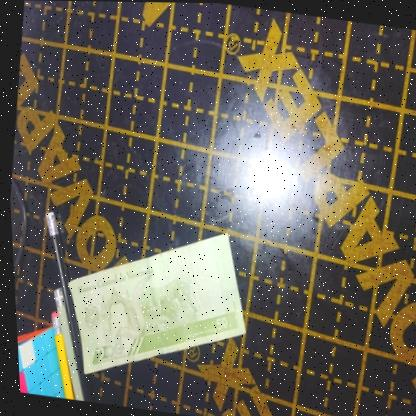fifty-back-vef: (50, 210, 256, 395)
